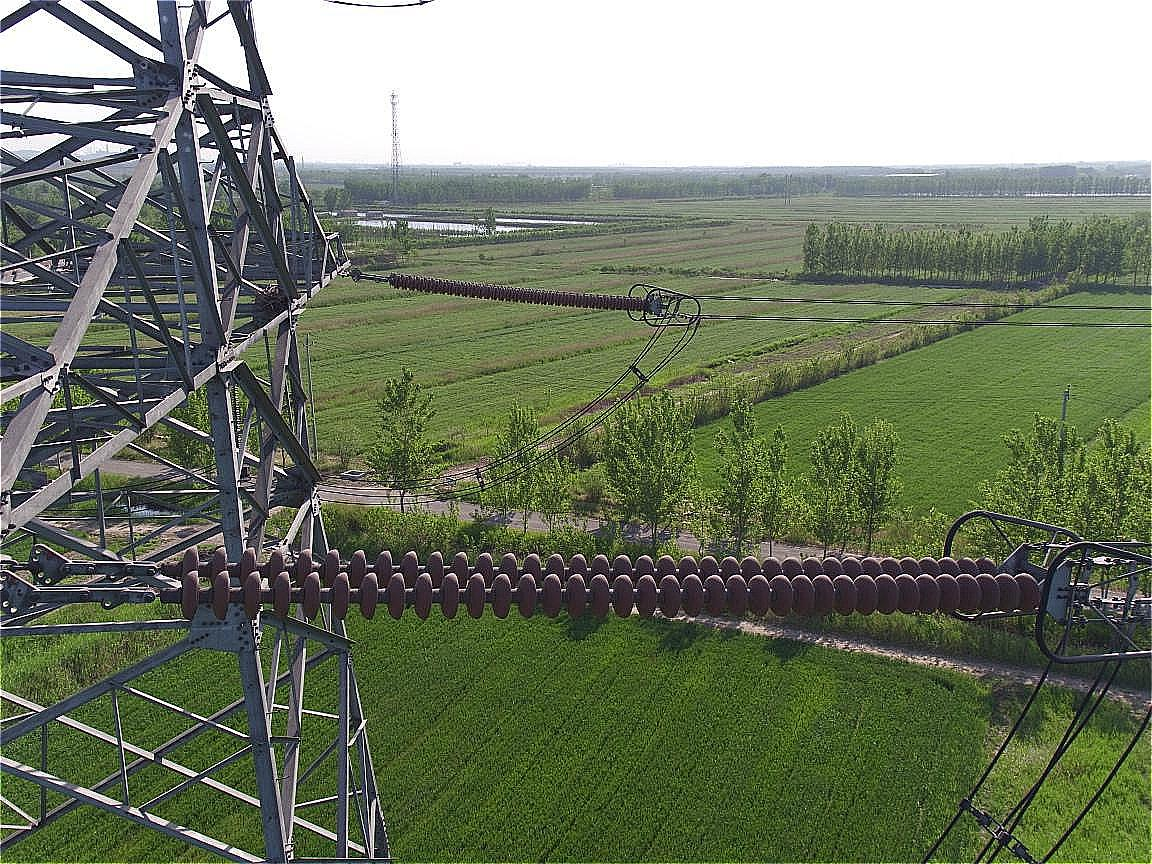insultor1: (155, 522, 1081, 637)
insultor2: (374, 262, 670, 326)
